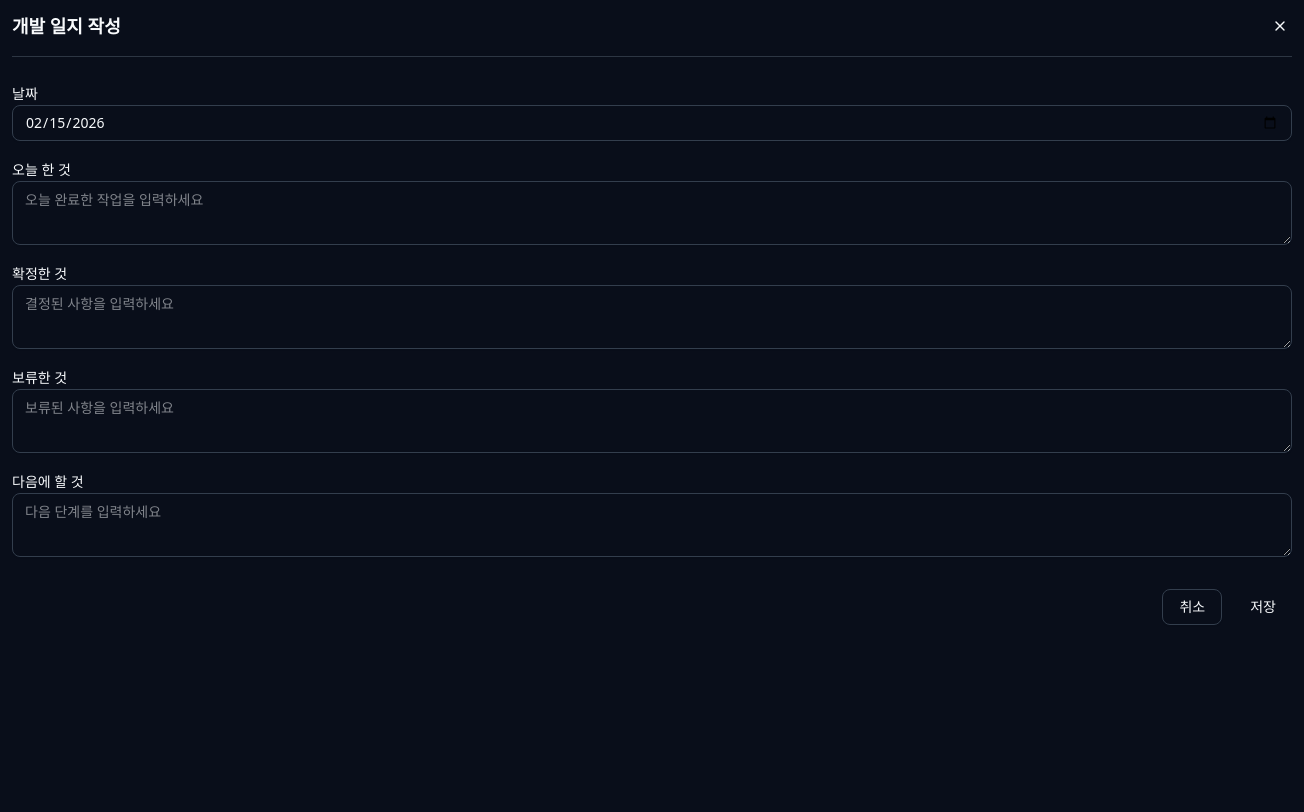
Test: DevLogForm › shows validation error when all fields are empty
Click the button "저장" at x=1263, y=607, box [1234,589,1292,625]
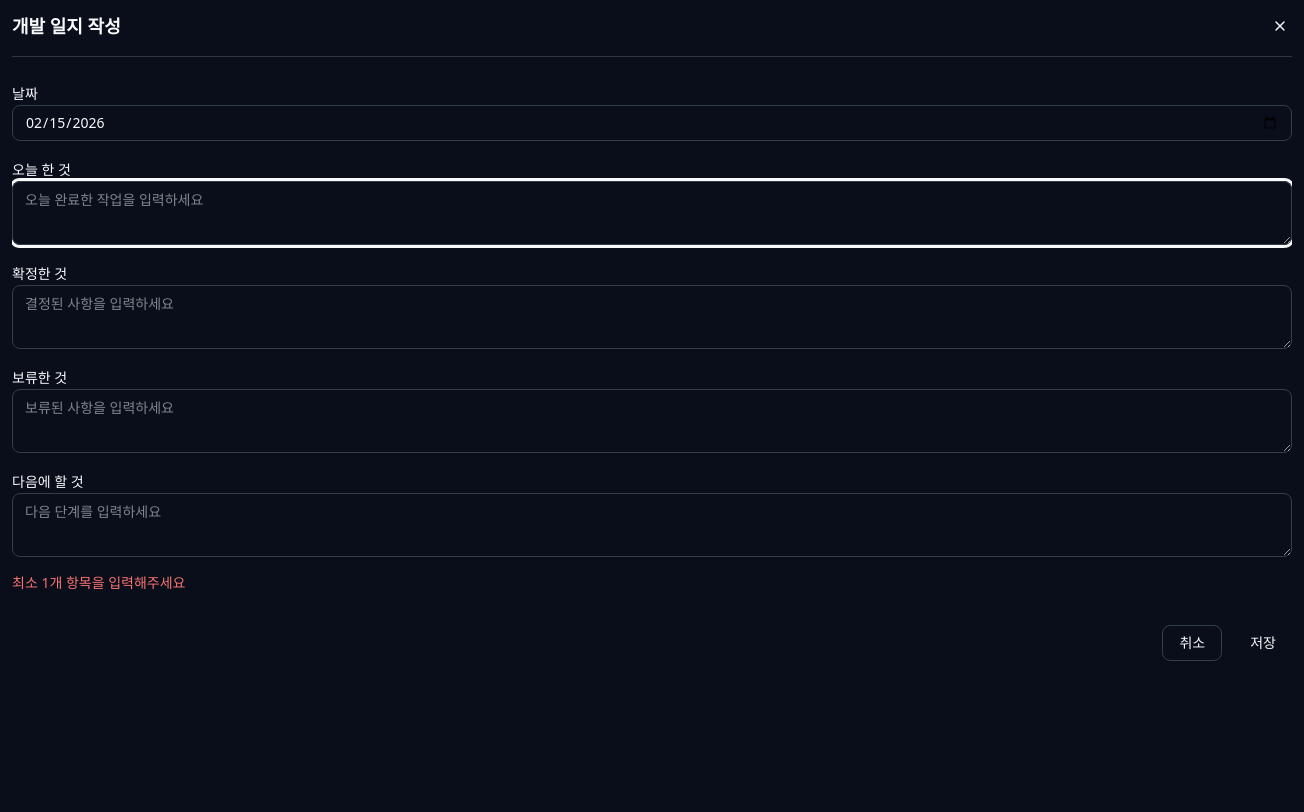
Expected: the text "최소 1개 항목을 입력해주세요" is shown, [12,573,186,592]
